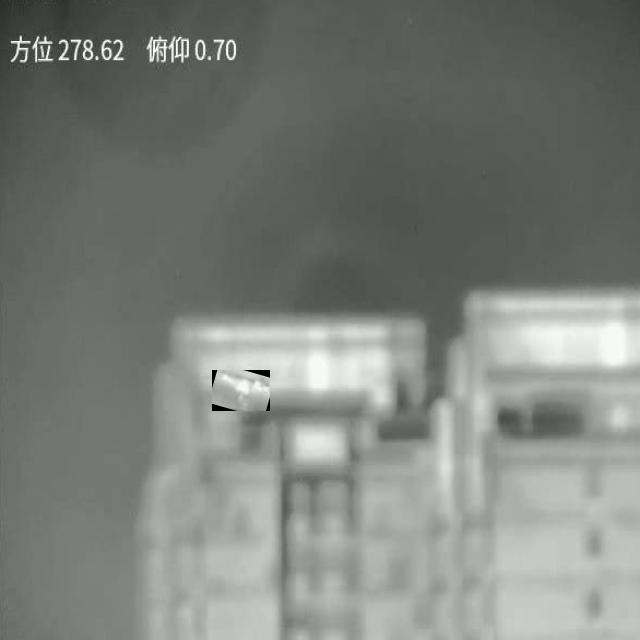drone: (219, 370, 270, 411)
